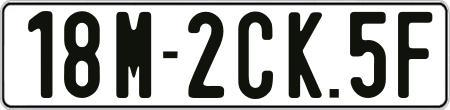1: (25, 9, 54, 97)
2: (185, 12, 223, 99)
5: (350, 9, 387, 98)
8: (62, 8, 102, 97)
C: (235, 11, 271, 98)
F: (398, 12, 438, 102)
K: (288, 10, 326, 98)
M: (113, 11, 151, 98)
